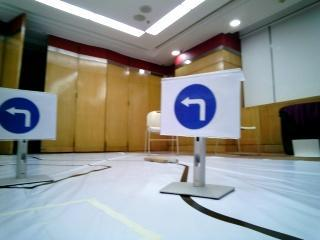left: (157, 83, 235, 139), (1, 90, 51, 137)
